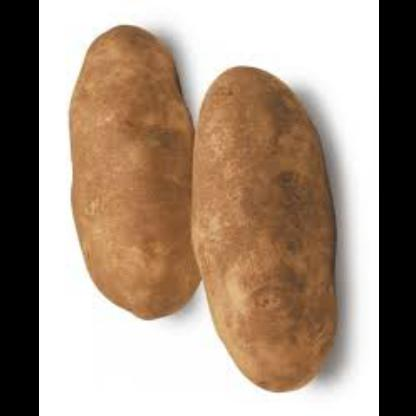potato: (190, 66, 336, 392), (66, 25, 198, 319)
